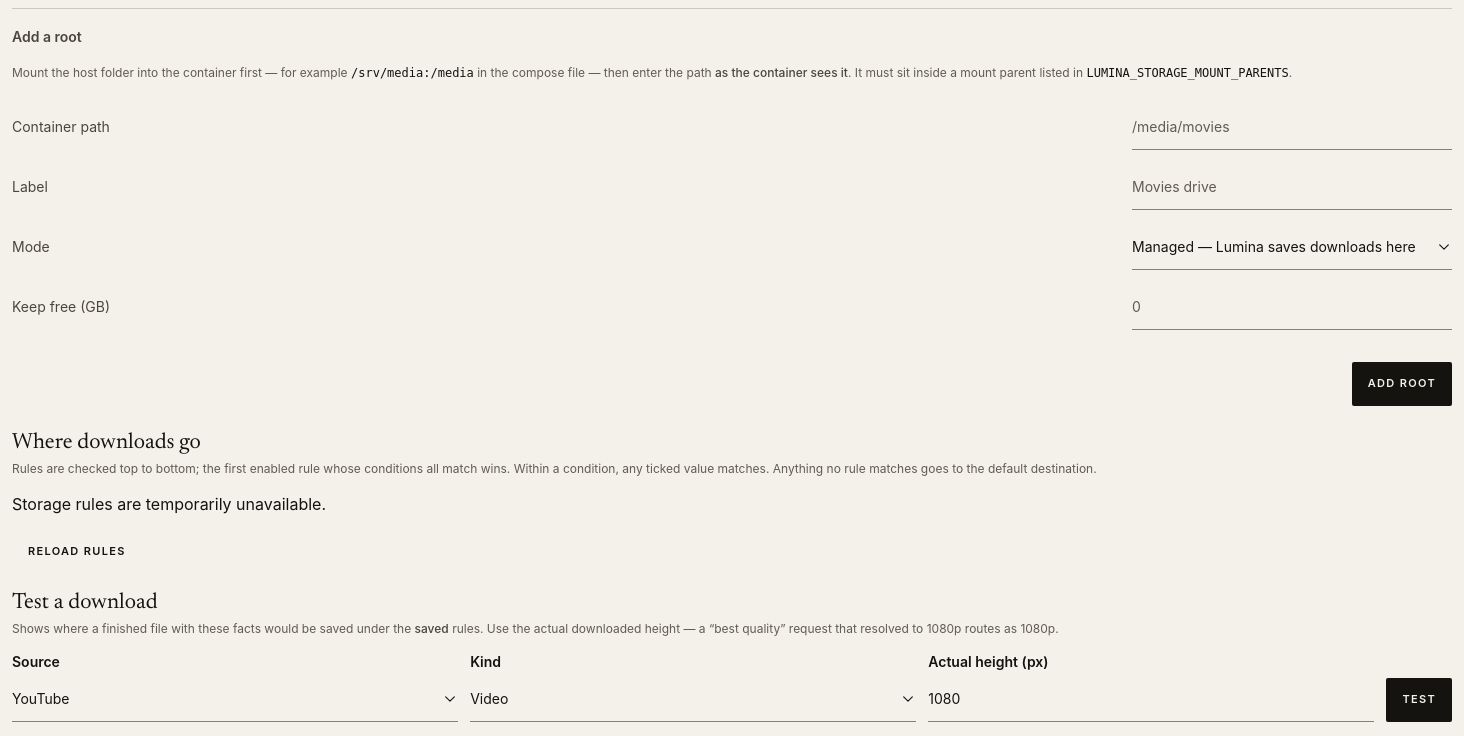
admin storage › shows an actionable initial routing-rules load failure and reloads
(page scrolled)
Expected: the message shows "temporarily unavailable", x1=12 y1=494 x2=326 y2=514
Click the button "Reload rules" at {"x": 77, "y": 552}, box x1=12 y1=530 x2=142 y2=574
(page scrolled)
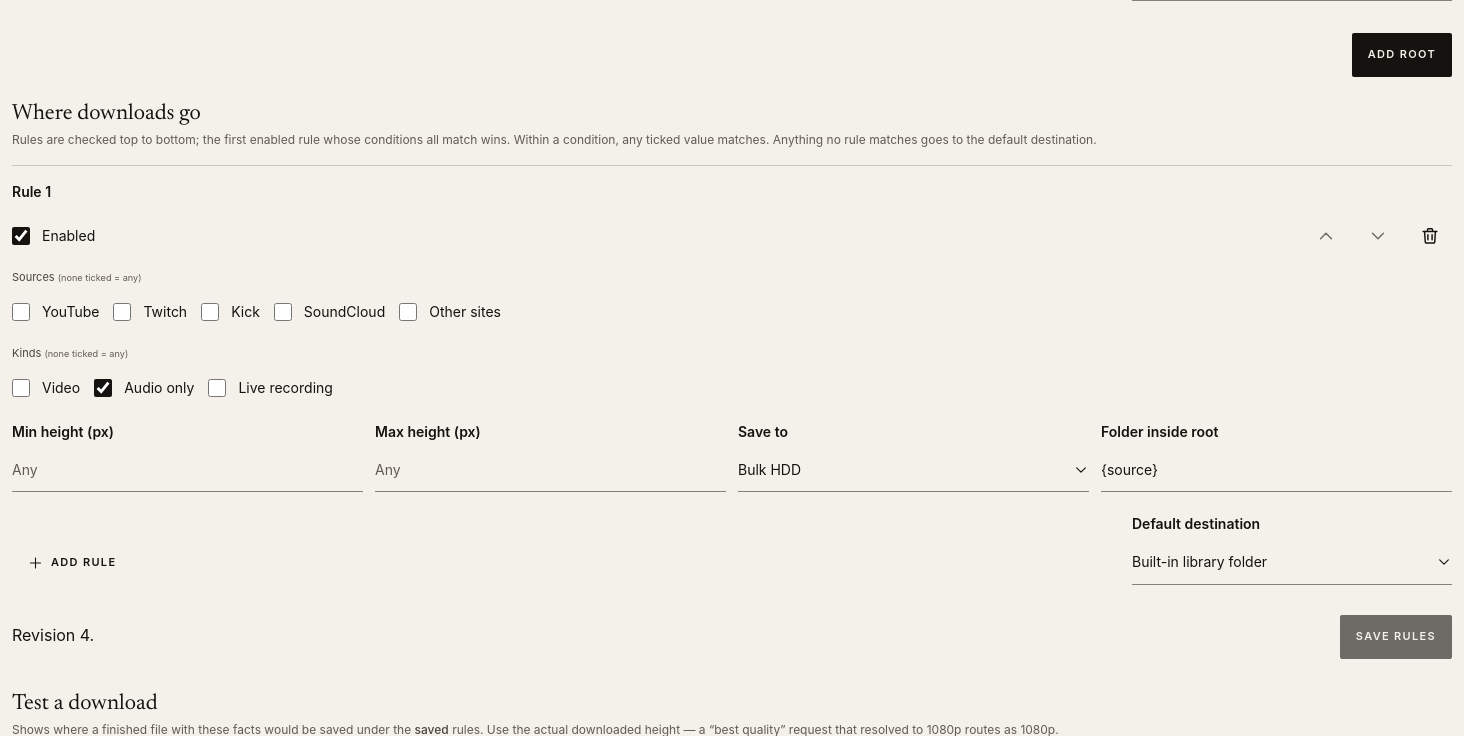
Now the element "Rule 1" is shown, box x1=12 y1=165 x2=1452 y2=498
